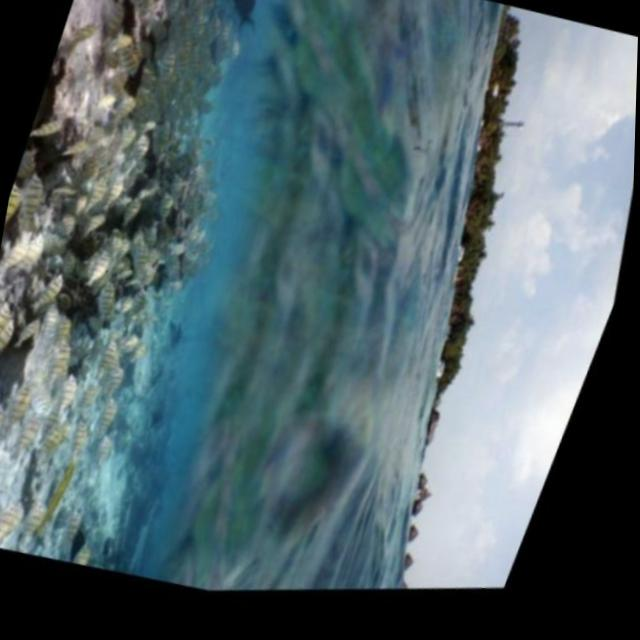Dead Coral: (30, 0, 192, 155)
